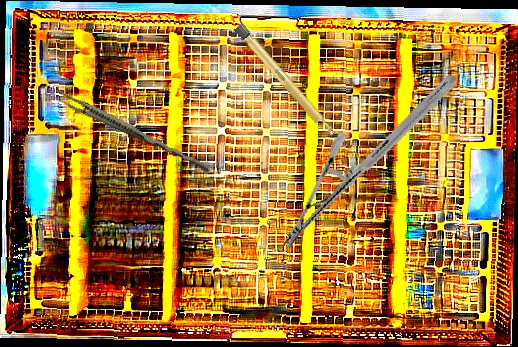Needle Holder: (281, 44, 458, 279)
Scalpel Handle: (233, 22, 337, 140)
Tissue Forceps: (50, 88, 215, 175)
